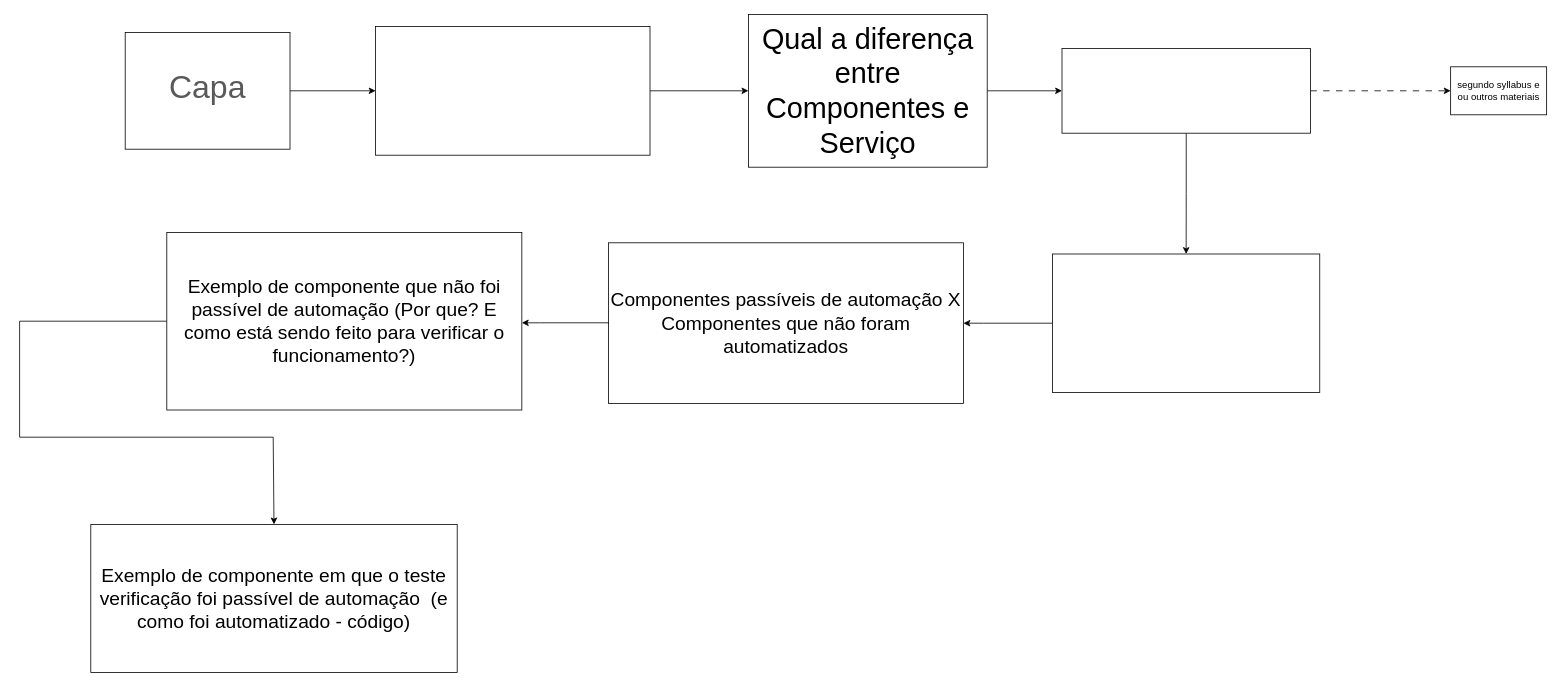
Image size: 1561x686. Some labels were removed from this diagram. The box of each missing label's shape, as (x1, y1, x2, y2) in pixels:
Como testar componentes?: (1061, 48, 1310, 133)
Componentes que fazem parte da squad: (1052, 253, 1320, 392)
O que é ou o que são componentes: (375, 26, 650, 155)
